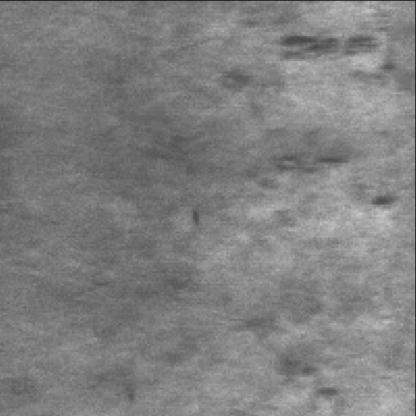rolled-in_scale: (241, 25, 395, 223), (239, 318, 395, 385)
